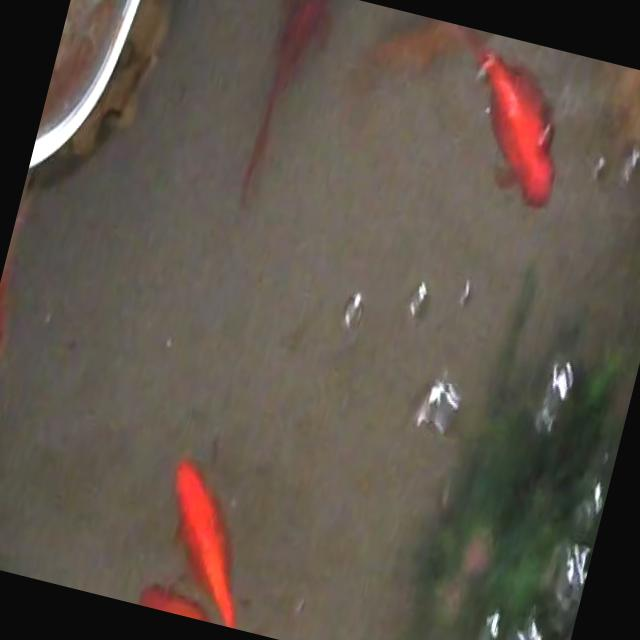fish: (343, 6, 583, 211), (138, 452, 317, 640), (229, 0, 335, 211), (359, 4, 489, 101), (0, 191, 45, 433), (135, 573, 256, 632)
